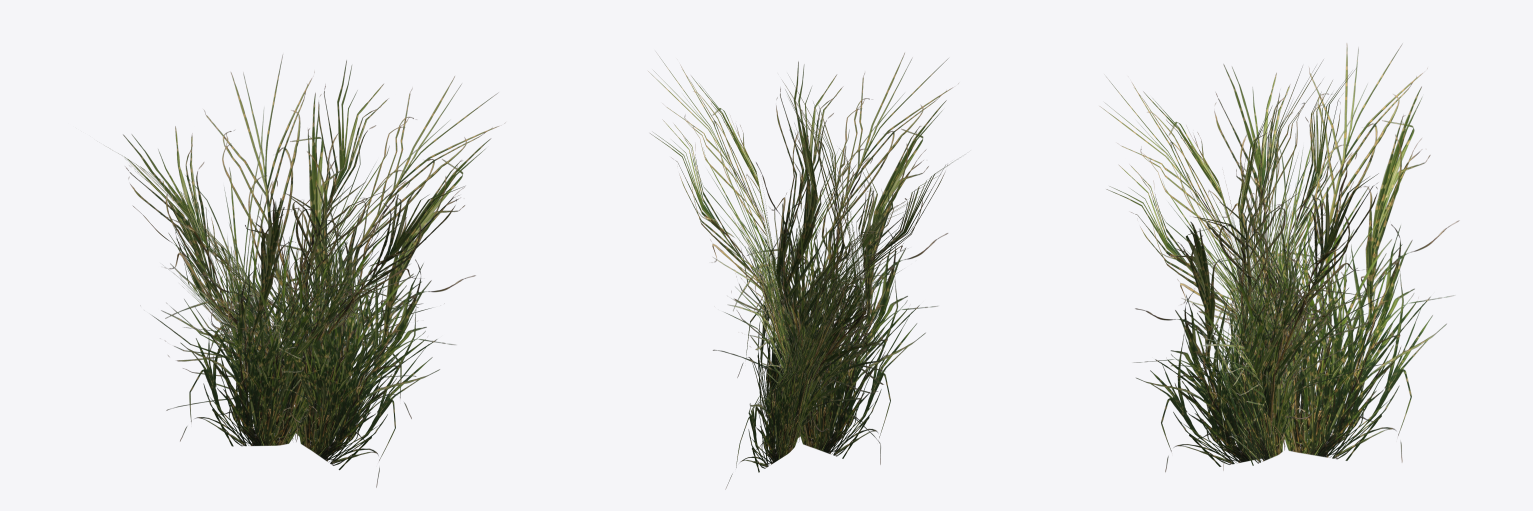
3 views of the same model, side by side, from view 1: azimuth 30°, elevation 25°; view 2: azimuth 150°, elevation 25°; view 3: azimuth 270°, elevation 25° (orthographic).
Visible parts, largest first — view 1: Plane081_lavanda_0, Plane080_lavanda_0, Plane082_lavanda_0, Plane083_lavanda_0; view 2: Plane081_lavanda_0, Plane082_lavanda_0, Plane083_lavanda_0, Plane080_lavanda_0; view 3: Plane083_lavanda_0, Plane080_lavanda_0, Plane082_lavanda_0, Plane081_lavanda_0.
Boxes of the visible parts, x1,y1,x2,y2 form: Plane081_lavanda_0: [180, 182, 464, 446]; Plane080_lavanda_0: [223, 60, 505, 487]; Plane082_lavanda_0: [123, 55, 412, 438]; Plane083_lavanda_0: [112, 150, 328, 440]; Plane081_lavanda_0: [713, 52, 958, 464]; Plane082_lavanda_0: [737, 76, 904, 443]; Plane083_lavanda_0: [725, 157, 960, 489]; Plane080_lavanda_0: [648, 51, 810, 437]; Plane083_lavanda_0: [1171, 43, 1459, 462]; Plane080_lavanda_0: [1133, 173, 1390, 472]; Plane082_lavanda_0: [1215, 59, 1355, 470]; Plane081_lavanda_0: [1099, 76, 1294, 445].
Bounding box in the file's own units: 12.06 × 12.46 × 12.14.
1 material, 1 textured.
